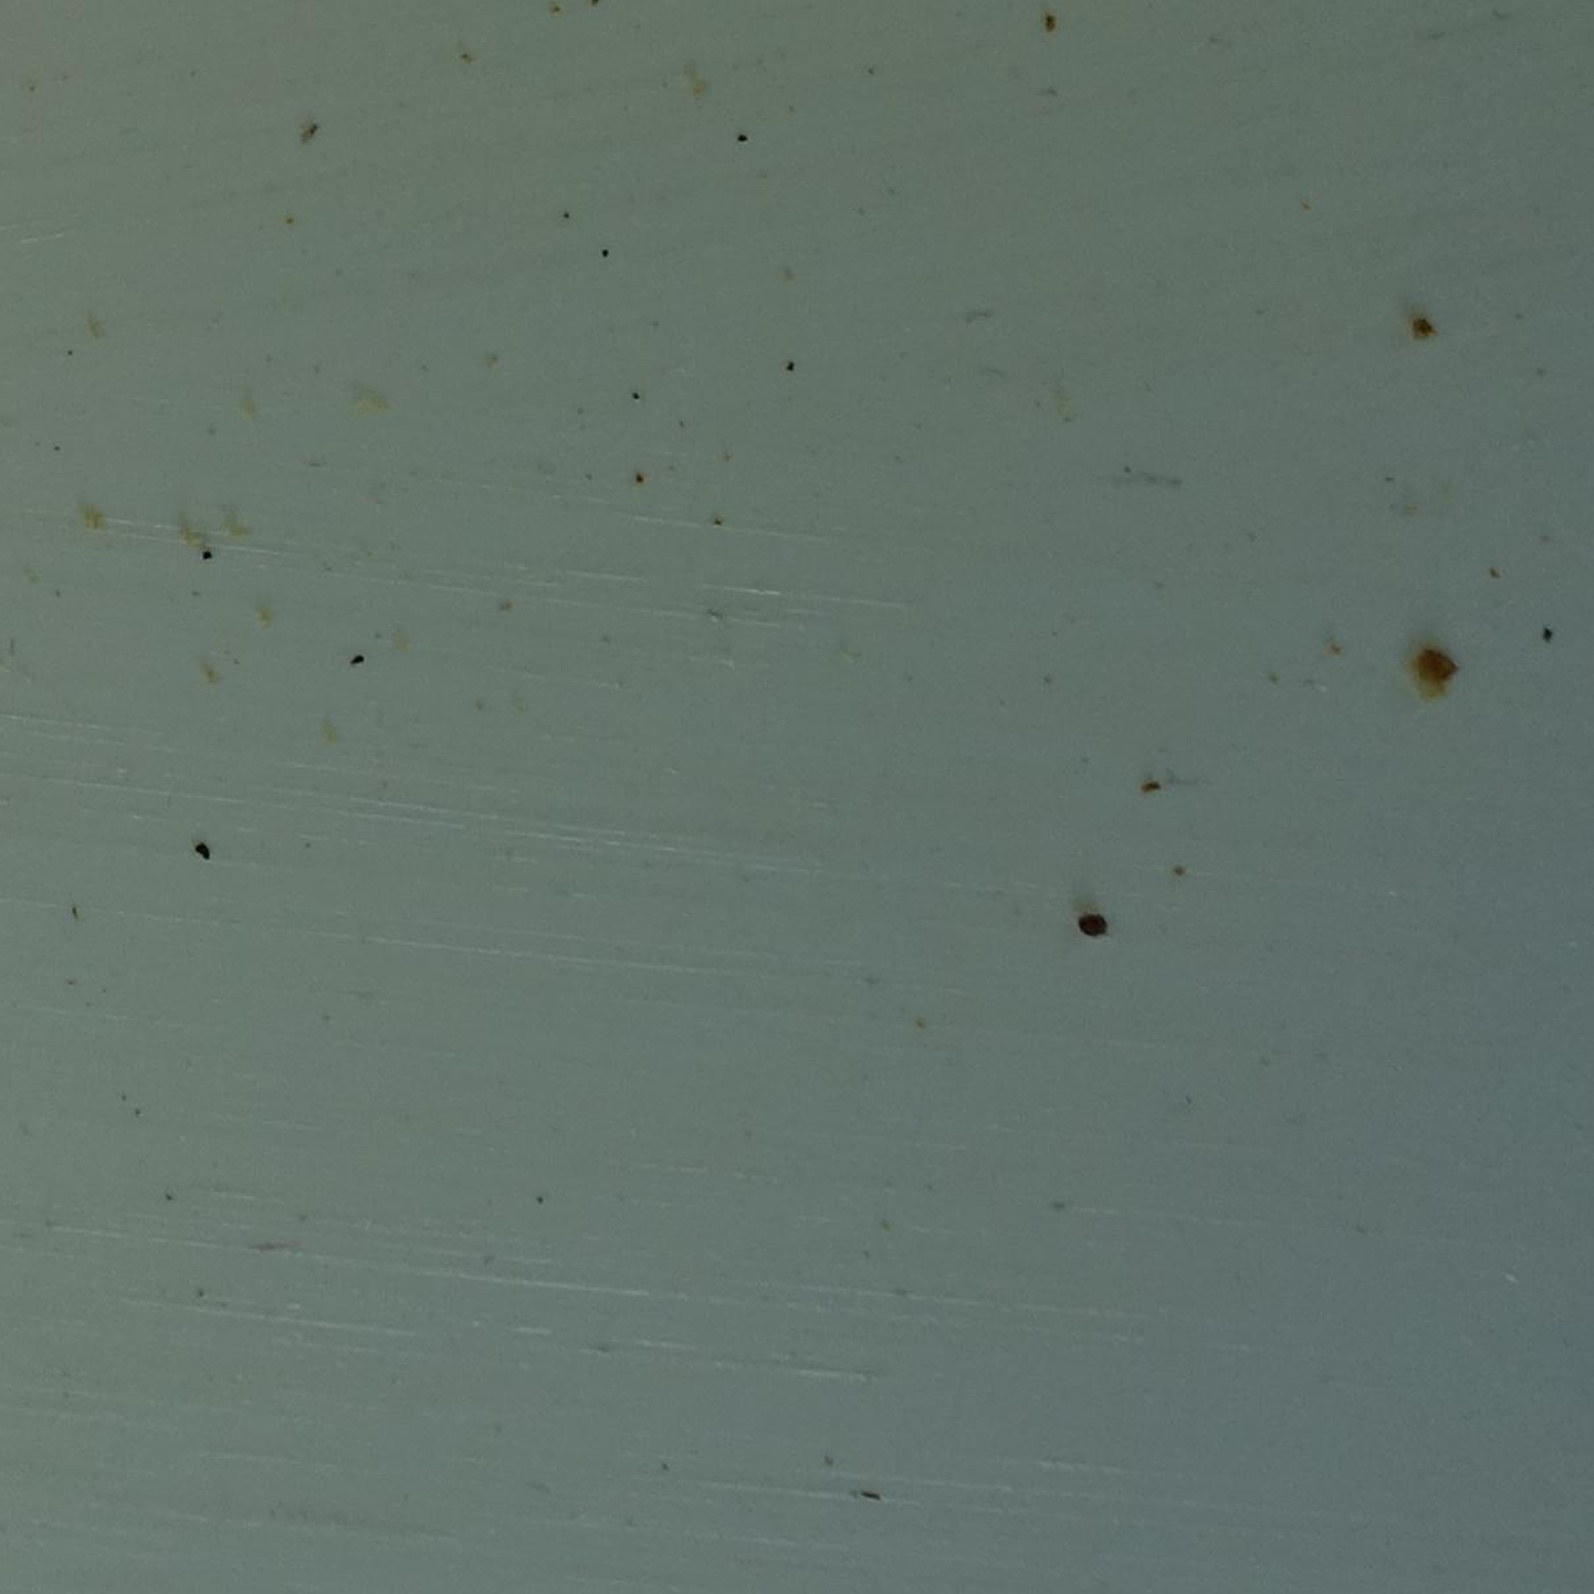Varroa: (1080, 915, 1101, 936)
